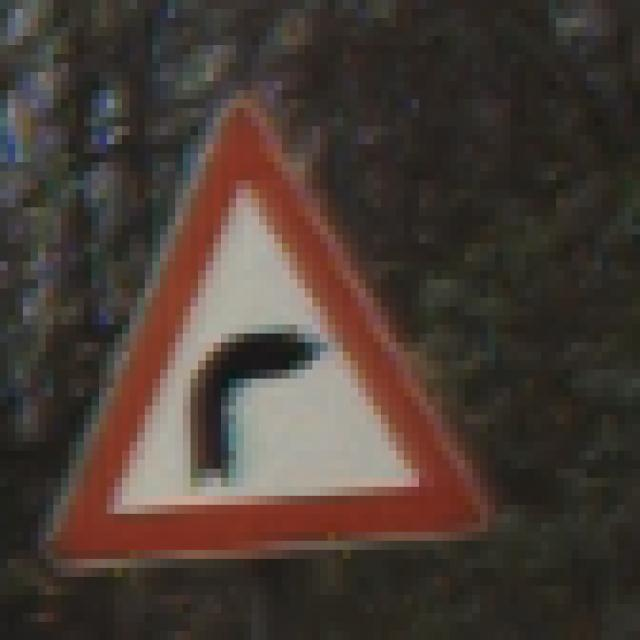right hand curve: (43, 101, 469, 547)
